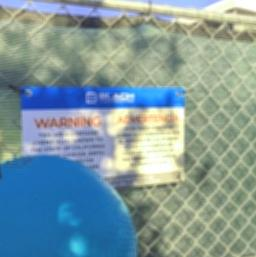algae: (0, 151, 135, 257)
